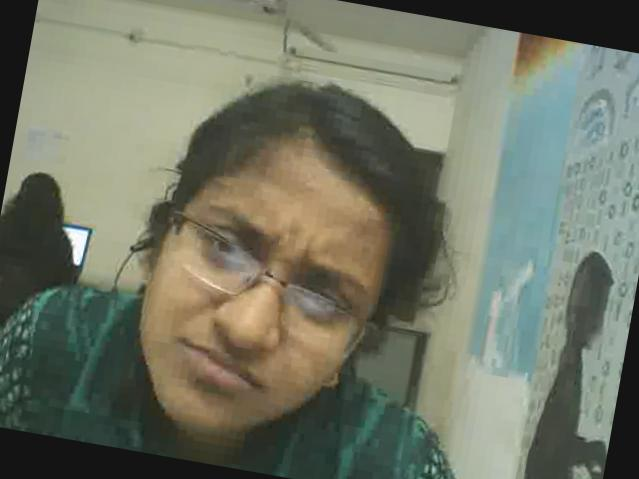bingung: (123, 138, 405, 462)
